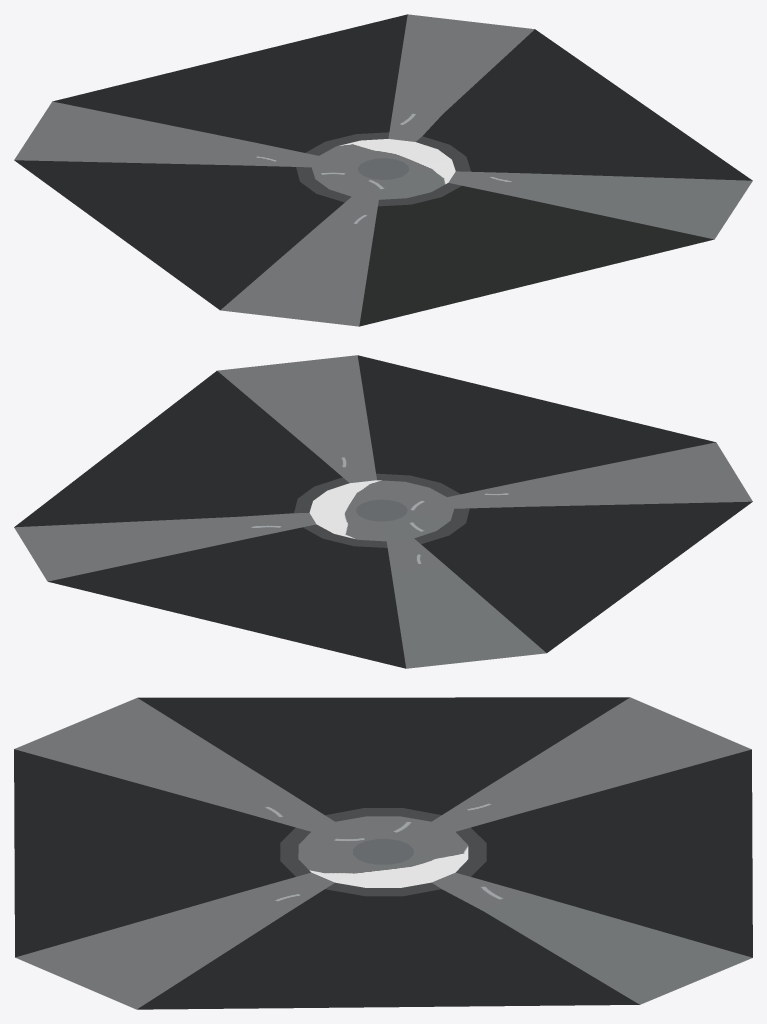
The model's file is MainGround03.fbx.
The picture shows the model from 3 angles, top to bottom: view 1: azimuth 30°, elevation 25°; view 2: azimuth 150°, elevation 25°; view 3: azimuth 270°, elevation 25°; orthographic projection. The views are drawn at different scales.
Visible parts, largest first — view 1: MainGround; view 2: MainGround; view 3: MainGround.
Boxes of the visible parts, x1,y1,x2,y2 form: MainGround: (14,14,752,326); MainGround: (14,355,752,668); MainGround: (14,697,752,1009).
Bounding box in the file's own units: 0.4601 × 192 × 192.
